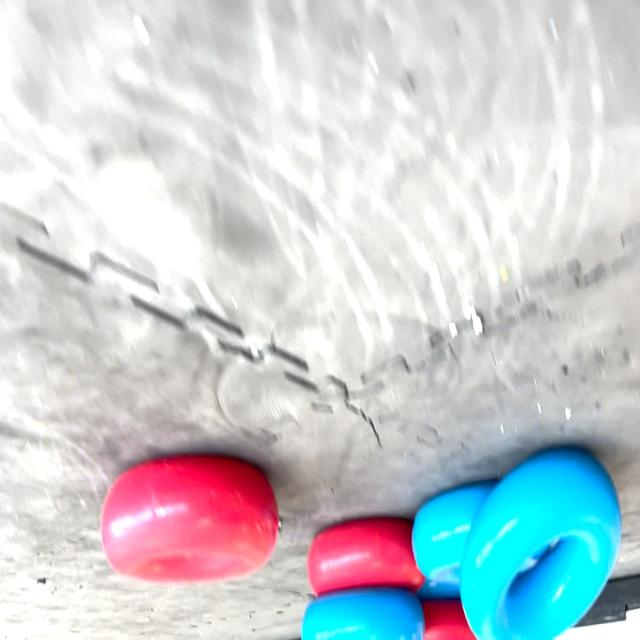Blue-Ring: (460, 449, 621, 638), (413, 480, 548, 580), (301, 587, 424, 639)
Red-Ring: (100, 456, 279, 582), (308, 518, 425, 596), (421, 600, 476, 639)
